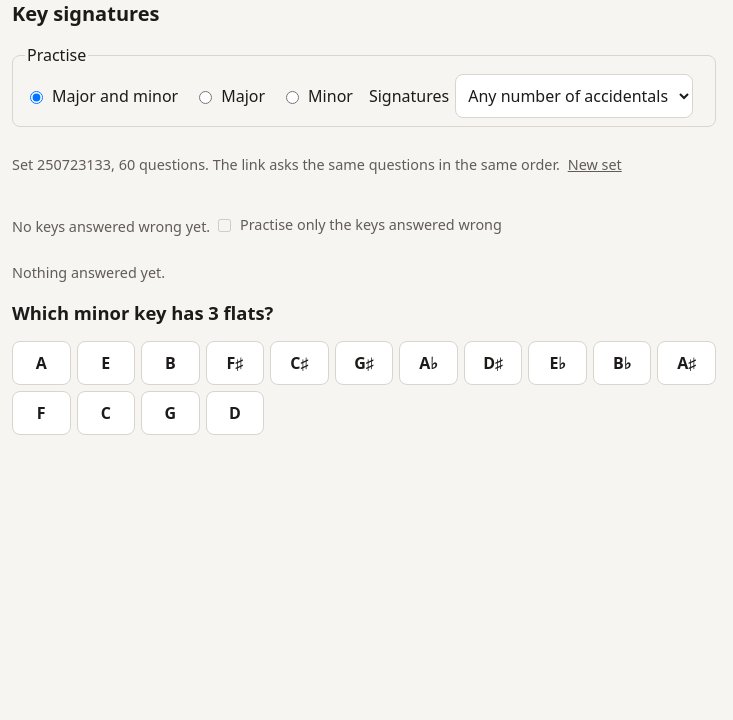
it: KeyQuiz: which key? › takes the right tonic
Click the button named "C minor": (106, 413) [76, 391, 135, 435]
(page scrolled)
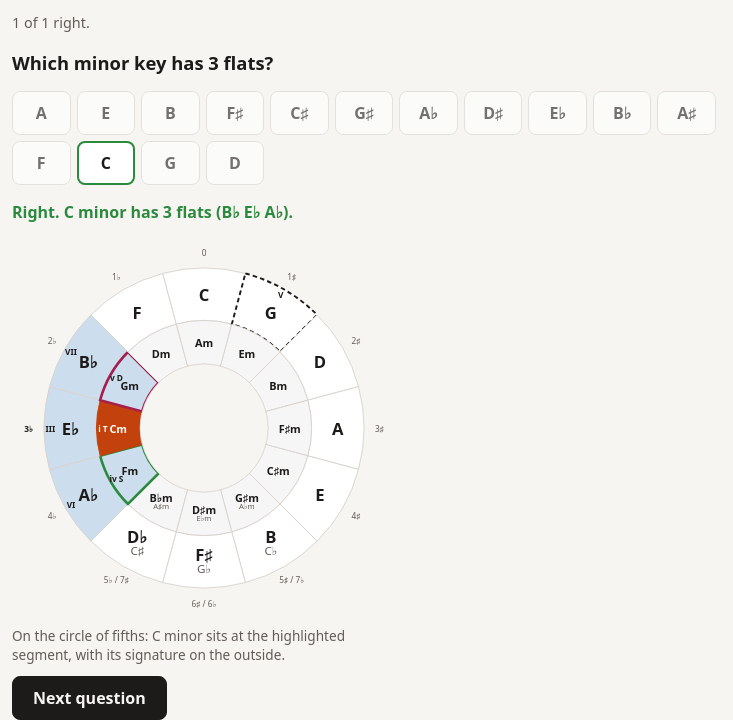
Result: the text "1 of 1 right." is shown at [12, 13, 90, 32]
Result: the message shows "Right." at [12, 201, 60, 223]
